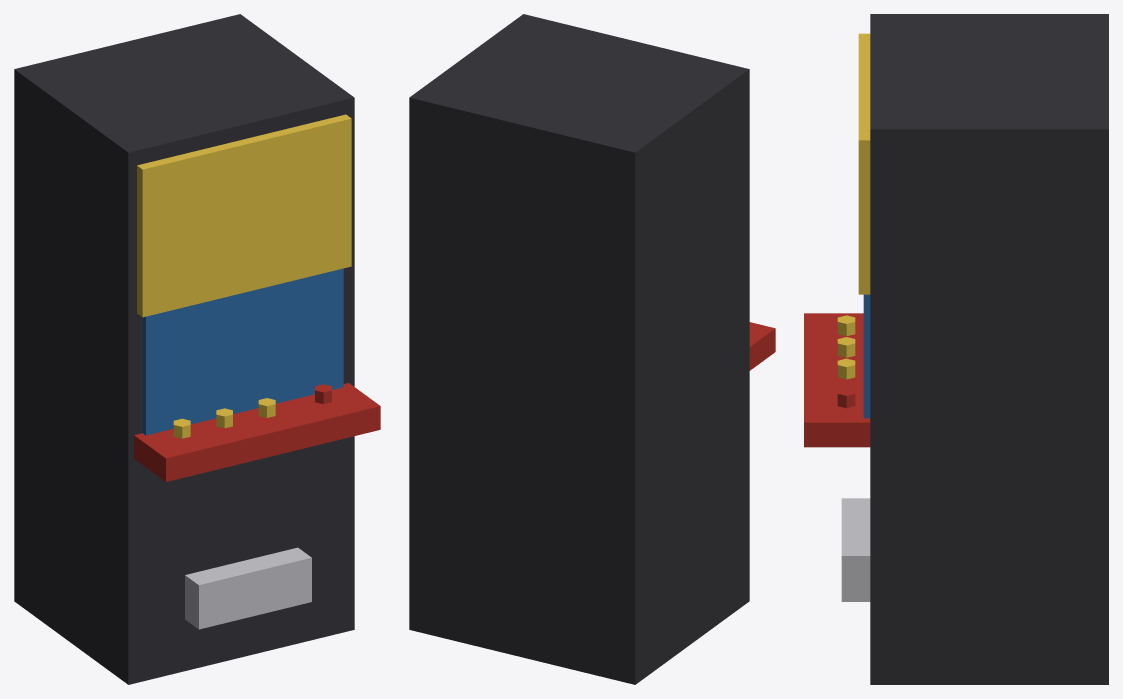
The model's file is interior_pub_fruitmachine.glb.
3 renders of one model, left to right at view 1: azimuth 30°, elevation 25°; view 2: azimuth 150°, elevation 25°; view 3: azimuth 270°, elevation 25°, orthographic. The views are drawn at different scales.
Parts seen in each view (by area): view 1: interior_pub_fruitmachine; view 2: interior_pub_fruitmachine; view 3: interior_pub_fruitmachine.
Part boxes in pixels (left/top/right/bottom): interior_pub_fruitmachine: left=14, top=14, right=380, bottom=684; interior_pub_fruitmachine: left=409, top=14, right=775, bottom=684; interior_pub_fruitmachine: left=804, top=14, right=1108, bottom=684.
Size of the model in its own units: 0.8 by 1.8 by 0.895.
Materials: 1 (1 with a texture image).
